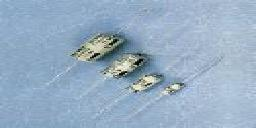Electrolytic-Capacitor: (69, 26, 123, 67), (100, 51, 150, 80), (127, 72, 165, 93), (159, 81, 191, 101)
